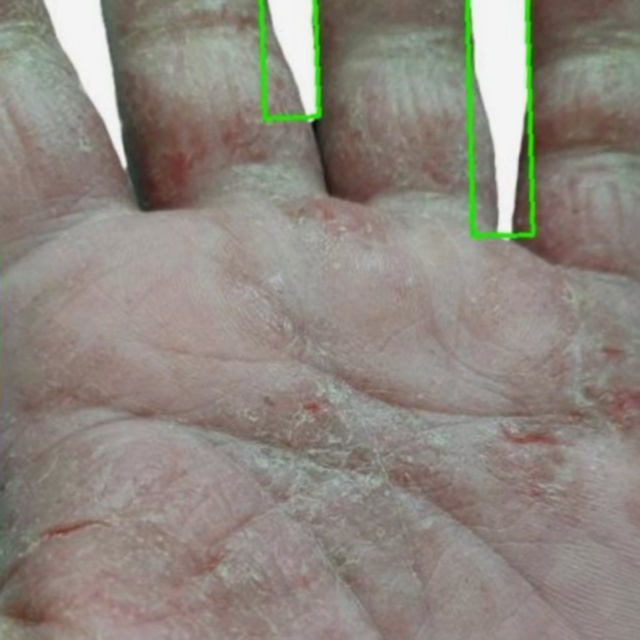Contact Dermatitis: (466, 0, 532, 236), (260, 0, 318, 119)
